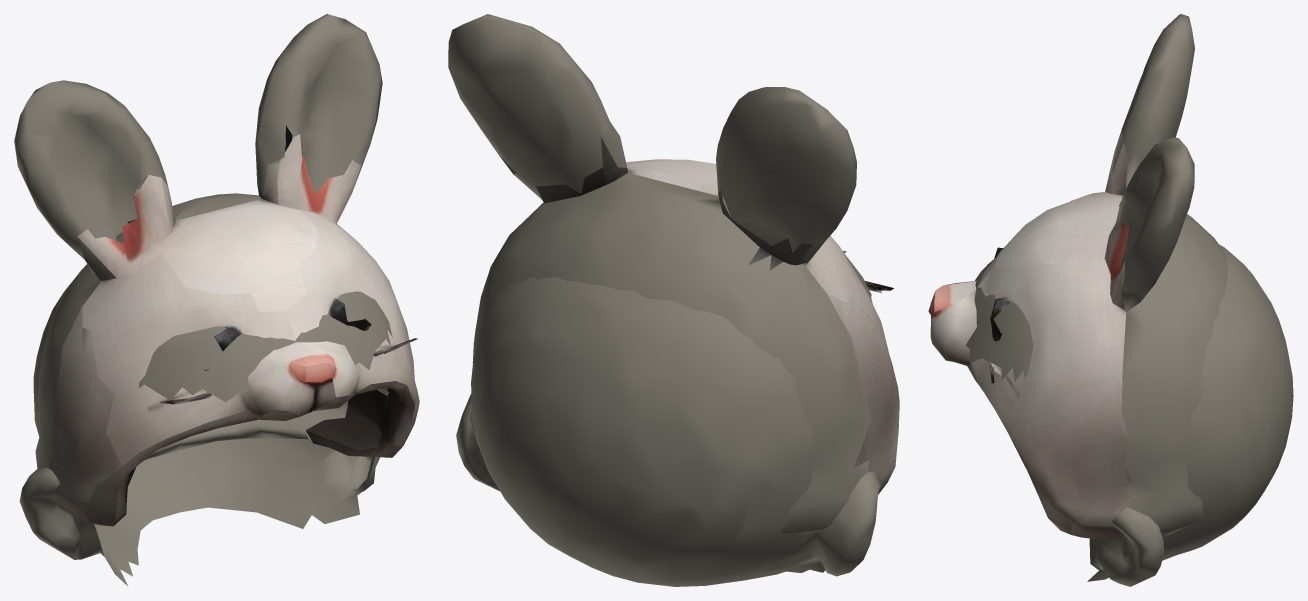
Rendered from rabbit.glb.
3 renders of one model, left to right at view 1: azimuth 30°, elevation 25°; view 2: azimuth 150°, elevation 25°; view 3: azimuth 270°, elevation 25°, orthographic. The views are drawn at different scales.
Parts seen in each view (by area): view 1: geometry_0, HoodAnatomicalLining; view 2: geometry_0, HoodAnatomicalLining; view 3: geometry_0, HoodAnatomicalLining.
Boxes of the visible parts, left/top/right/bottom form: geometry_0: left=14, top=14, right=419, bottom=526; HoodAnatomicalLining: left=19, top=275, right=392, bottom=585; geometry_0: left=448, top=14, right=899, bottom=534; HoodAnatomicalLining: left=456, top=198, right=881, bottom=586; geometry_0: left=928, top=14, right=1228, bottom=540; HoodAnatomicalLining: left=965, top=244, right=1293, bottom=586.
Bounding box in the file's own units: 0.5133 × 0.6305 × 0.4542.
2 materials, 1 textured.
